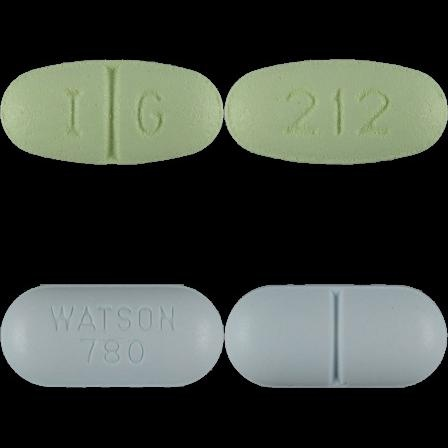53808-0587: (0, 0, 224, 224)
